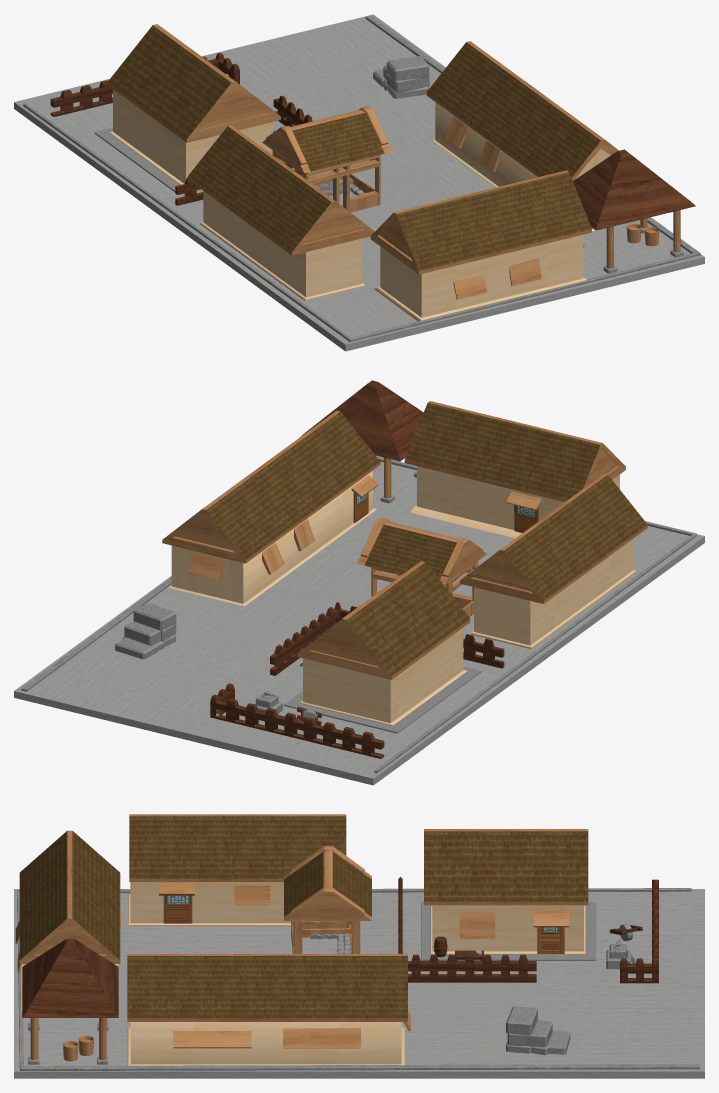
The model's file is cangku.fbx.
3 renders of one model, top to bottom at view 1: azimuth 30°, elevation 25°; view 2: azimuth 150°, elevation 25°; view 3: azimuth 270°, elevation 25°, orthographic. The views are drawn at different scales.
Parts seen in each view (by area): view 1: polySurface842, polySurface847, polySurface850, polySurface849, polySurface848, polySurface779, polySurface778, polySurface782, polySurface780, polySurface777, polySurface760, polySurface781 (+7 smaller); view 2: polySurface842, polySurface850, polySurface847, polySurface849, polySurface848, polySurface777, polySurface781, polySurface778, polySurface779, polySurface780, polySurface782, polySurface856 (+7 smaller); view 3: polySurface842, polySurface850, polySurface849, polySurface848, polySurface847, polySurface781, polySurface782, polySurface780, polySurface777, polySurface760, polySurface778, polySurface855 (+15 smaller).
Boxes of the visible parts, x1,y1,x2,y2 form: polySurface842: (14, 14, 704, 351); polySurface847: (370, 170, 591, 274); polySurface850: (426, 41, 618, 180); polySurface849: (188, 125, 374, 255); polySurface848: (108, 24, 280, 142); polySurface779: (374, 235, 586, 321); polySurface778: (200, 191, 365, 301); polySurface782: (573, 149, 695, 230); polySurface780: (262, 106, 391, 173); polySurface777: (109, 89, 273, 184); polySurface760: (23, 15, 700, 341); polySurface781: (432, 102, 610, 231); polySurface842: (14, 456, 704, 785); polySurface850: (162, 410, 380, 563); polySurface847: (404, 401, 625, 501); polySurface849: (460, 473, 647, 603); polySurface848: (297, 561, 470, 679); polySurface777: (299, 628, 466, 725); polySurface781: (168, 471, 376, 606); polySurface778: (471, 539, 635, 649); polySurface779: (411, 466, 619, 538); polySurface780: (357, 518, 486, 584); polySurface782: (300, 380, 423, 461); polySurface856: (210, 683, 384, 758); polySurface842: (14, 889, 704, 1078); polySurface850: (127, 954, 407, 1021); polySurface849: (129, 814, 346, 881); polySurface848: (424, 829, 588, 905); polySurface847: (19, 830, 120, 963); polySurface781: (127, 1022, 404, 1065); polySurface782: (22, 939, 118, 1017); polySurface780: (284, 846, 371, 920); polySurface777: (430, 905, 585, 953); polySurface760: (17, 888, 699, 1070); polySurface778: (128, 882, 290, 926); polySurface855: (398, 877, 536, 982).
Size of the model in its own units: 12.04 by 3.38 by 19.23.
